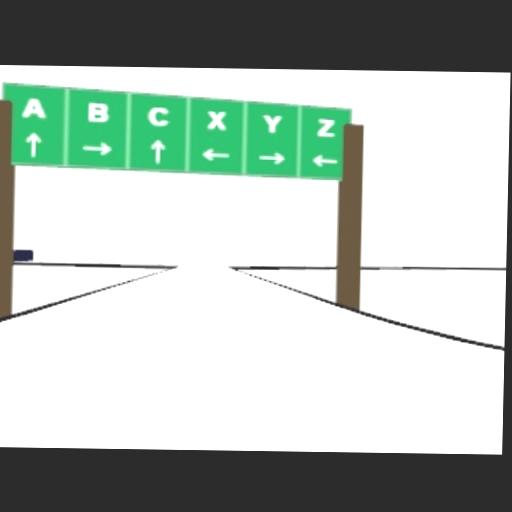A: (22, 98, 45, 117)
B: (87, 102, 108, 121)
C: (148, 107, 167, 126)
Left: (310, 154, 339, 168), (201, 148, 230, 161)
Right: (81, 141, 113, 156), (258, 151, 285, 165)
Straight: (25, 132, 41, 157), (150, 139, 165, 162)
X: (207, 110, 226, 128)
Y: (263, 114, 282, 132)
Z: (316, 117, 334, 136)
